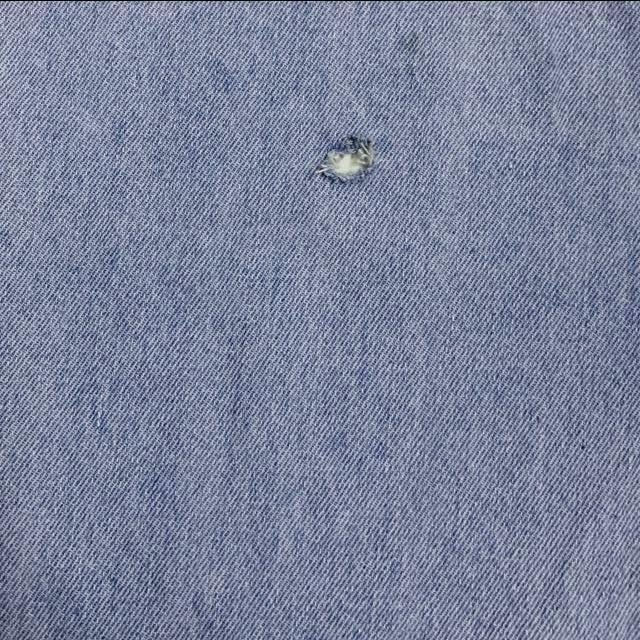Hole: (316, 135, 374, 181)
